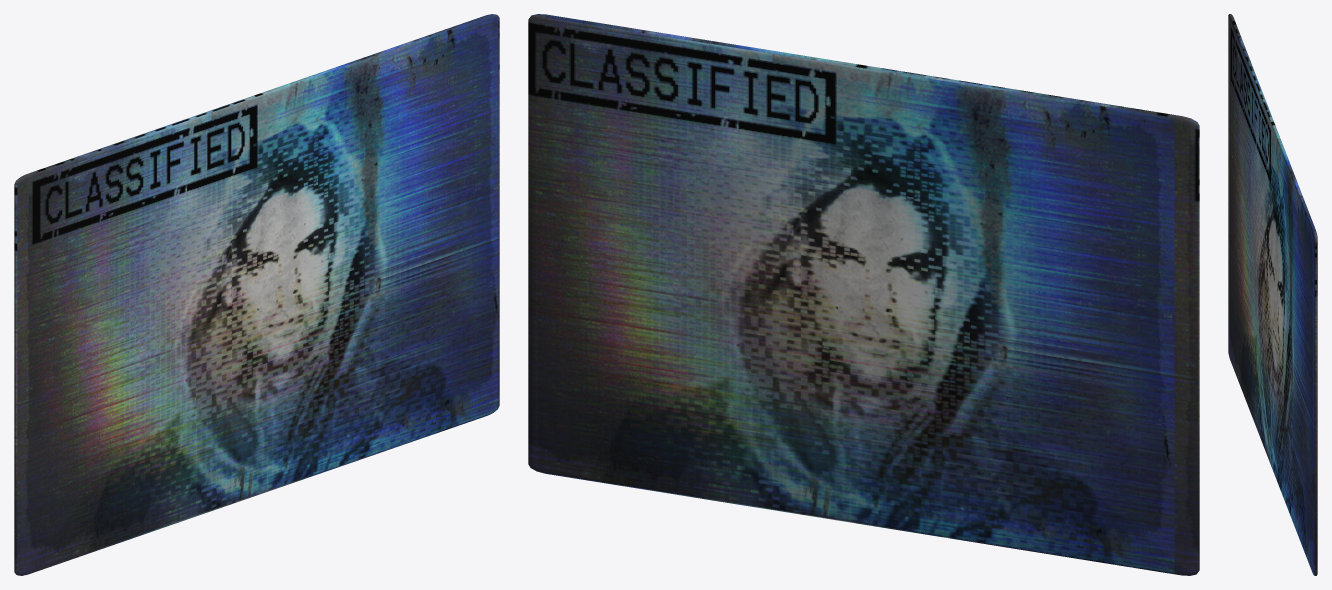
File: PHOTO.fbx
3 renders of one model, left to right at view 1: azimuth 30°, elevation 25°; view 2: azimuth 150°, elevation 25°; view 3: azimuth 270°, elevation 25°, orthographic. The views are drawn at different scales.
Parts seen in each view (by area): view 1: Cube_2; view 2: Cube_2; view 3: Cube_2.
Boxes of the visible parts, x1,y1,x2,y2 form: Cube_2: [14, 14, 499, 575]; Cube_2: [528, 14, 1199, 575]; Cube_2: [1228, 14, 1317, 575].
Size of the model in its own units: 475 by 339 by 80.
1 material, 1 textured.
